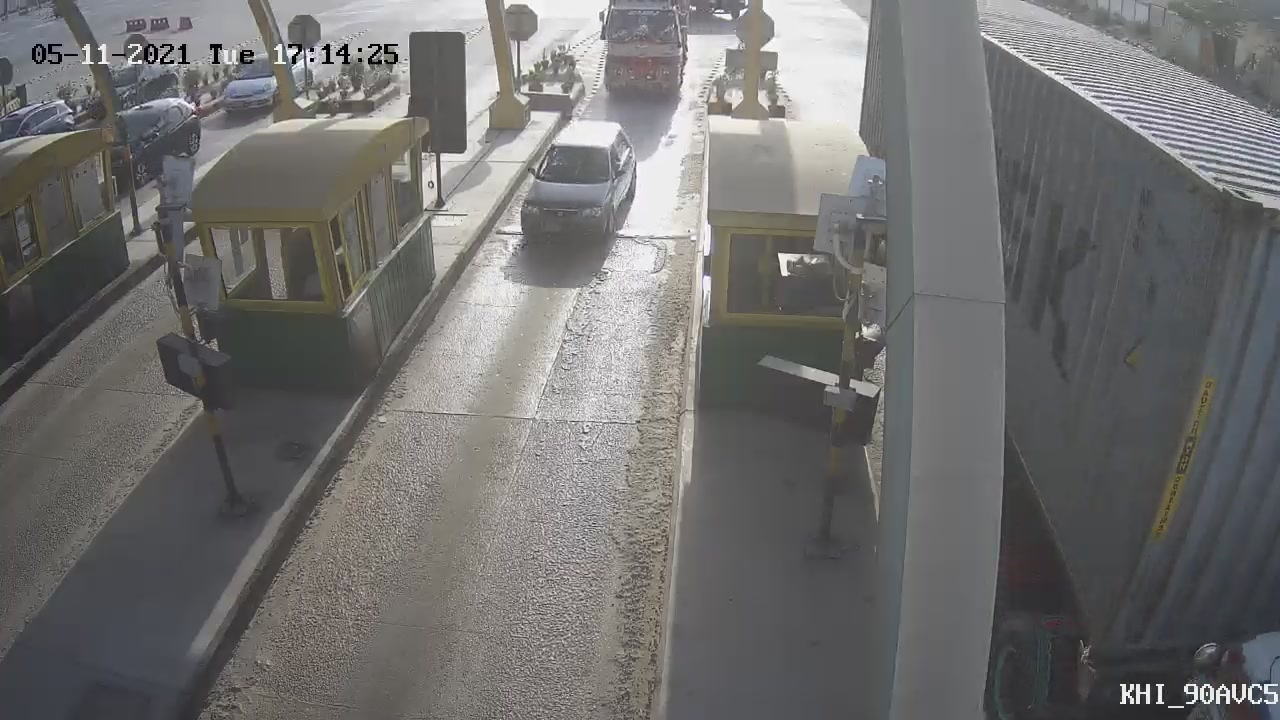F1: (495, 107, 656, 274)
